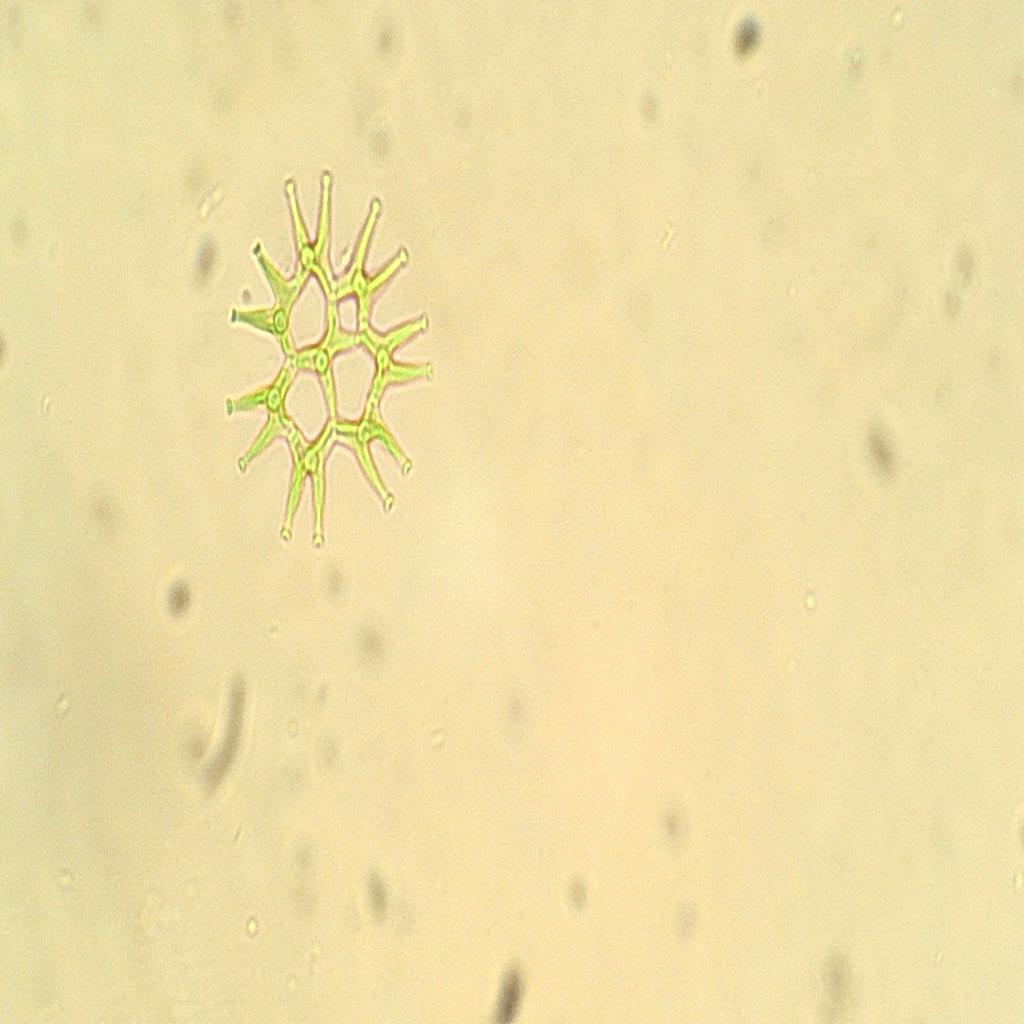Pediastrum_75T: (211, 140, 438, 566)
